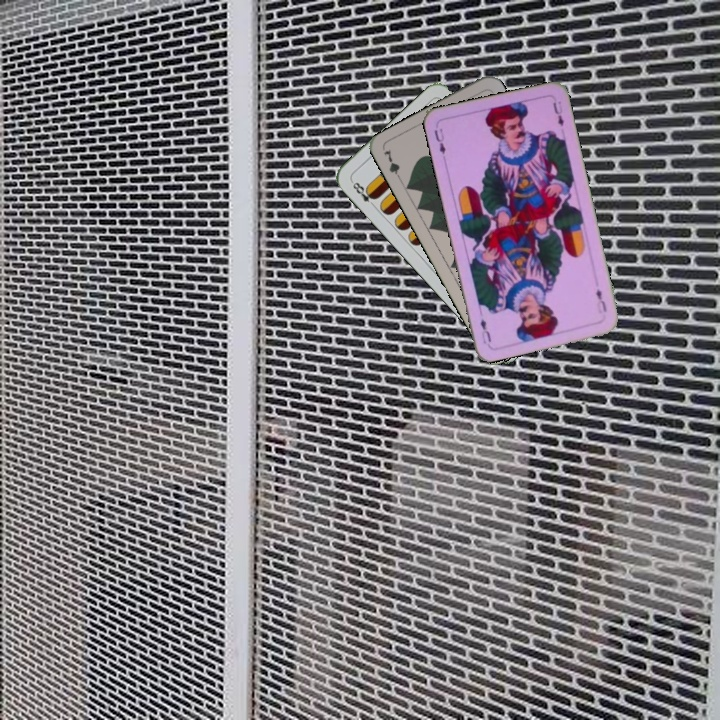E8: (347, 177, 379, 210)
EU: (430, 125, 448, 157), (592, 285, 609, 317)
G7: (380, 145, 405, 184)
